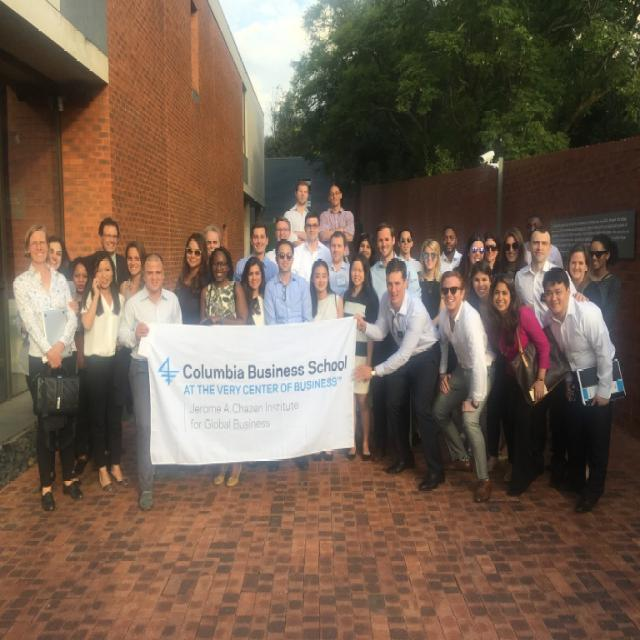body: (538, 264, 630, 516), (10, 220, 85, 513), (356, 255, 447, 492), (10, 229, 83, 492), (115, 248, 187, 513), (429, 264, 497, 504), (484, 271, 552, 486), (76, 244, 131, 496), (369, 221, 424, 462), (198, 244, 250, 489), (463, 256, 502, 476), (512, 224, 591, 330), (342, 251, 379, 461), (308, 257, 344, 463), (65, 254, 93, 476), (578, 230, 624, 348), (262, 238, 314, 326), (232, 220, 281, 297), (174, 230, 212, 327), (87, 216, 131, 294), (290, 210, 334, 287), (318, 182, 356, 264), (416, 237, 448, 332), (452, 231, 489, 312), (488, 222, 530, 288), (522, 213, 565, 270), (232, 254, 266, 326), (282, 180, 311, 248), (118, 238, 148, 300), (201, 224, 233, 282), (327, 229, 352, 298), (264, 216, 294, 272), (396, 227, 423, 281), (439, 223, 464, 277), (564, 241, 589, 289), (353, 230, 379, 268), (483, 233, 504, 279)
